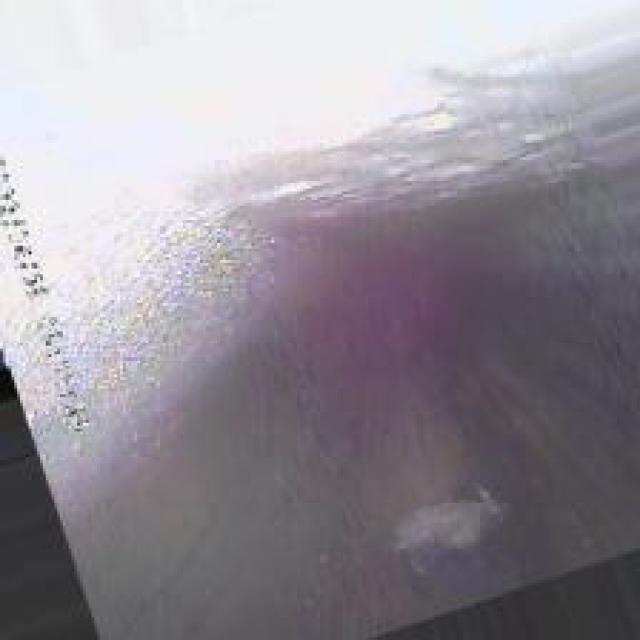ferrule: (383, 483, 523, 557)
